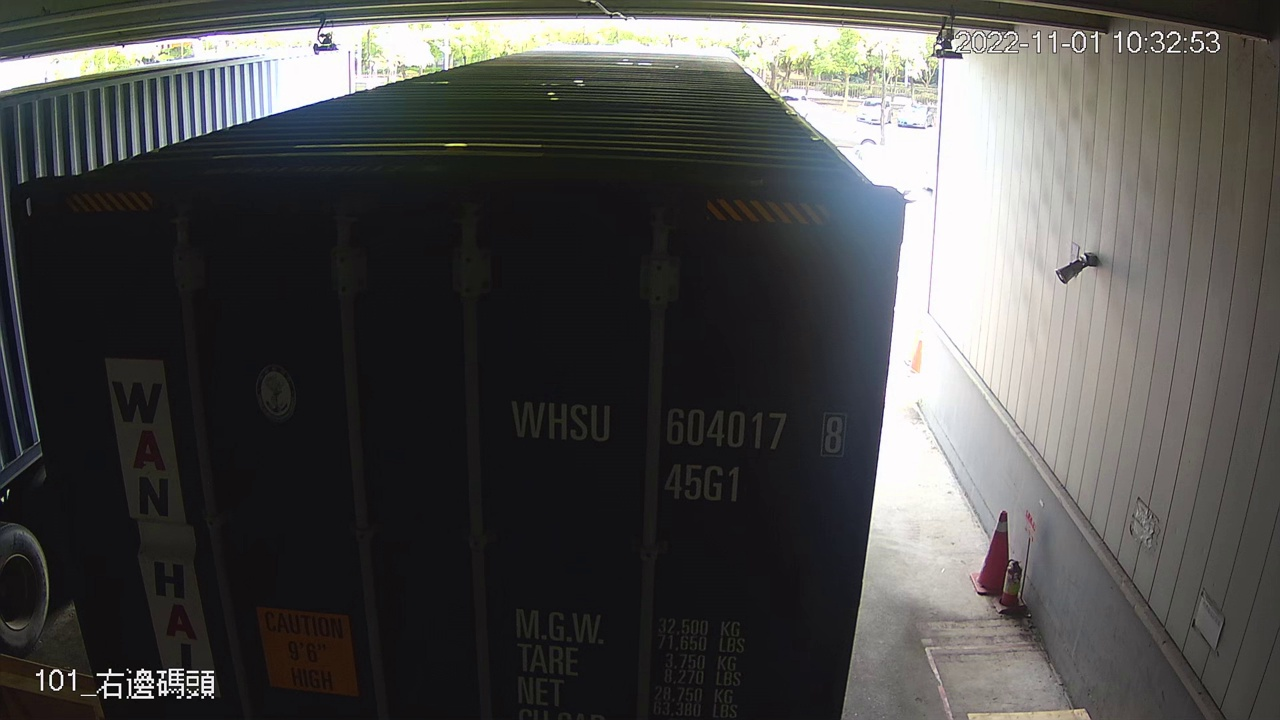container: (501, 378, 856, 511)
